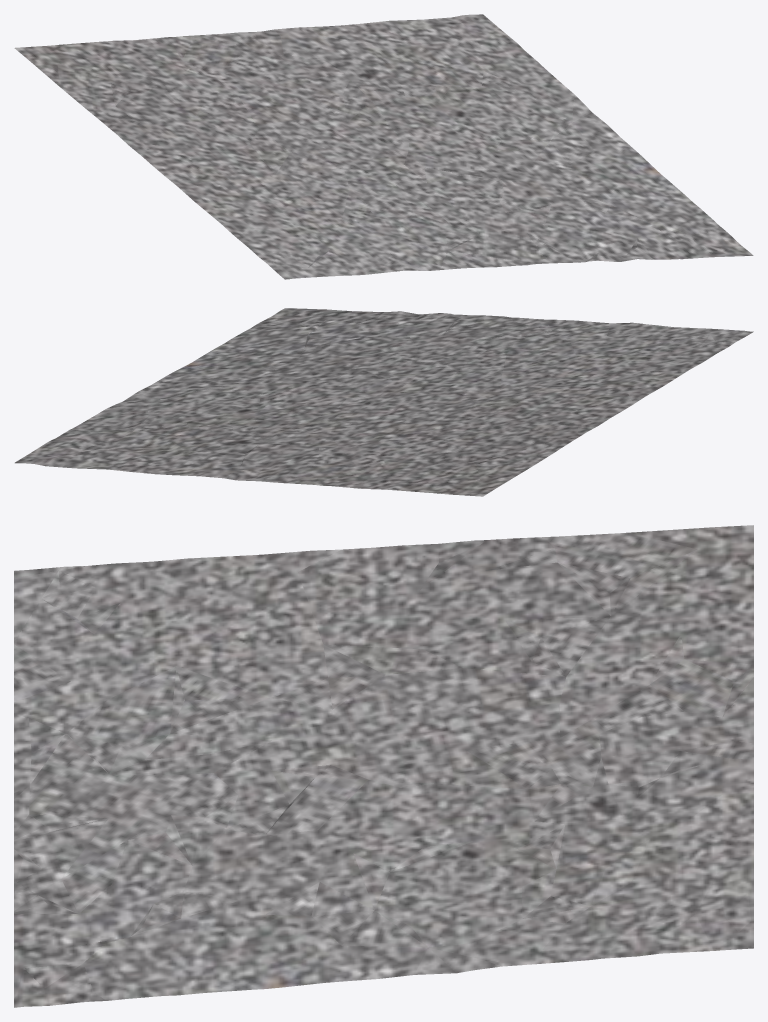
3 views of the same model, one above another, from view 1: azimuth 30°, elevation 25°; view 2: azimuth 150°, elevation 25°; view 3: azimuth 270°, elevation 25° (orthographic). The views are drawn at different scales.
Bounding box in the file's own units: 0.8374 × 0.2122 × 0.8373.
2 materials, 2 textured.
